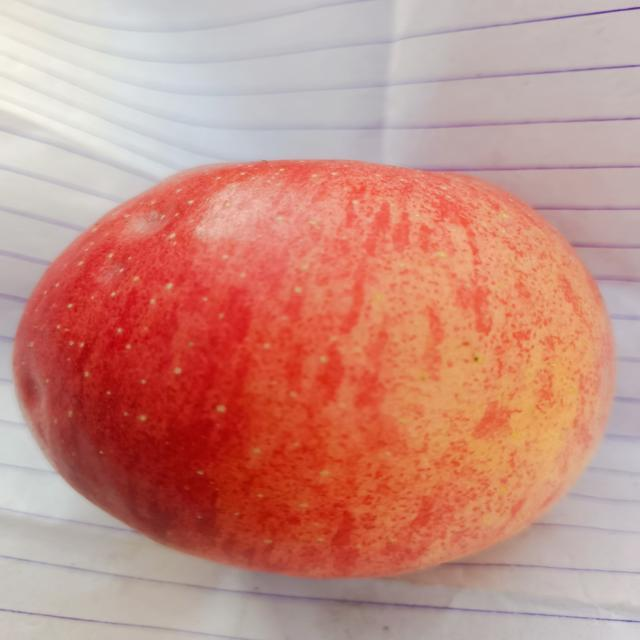Fresh Apple: (22, 163, 615, 572)
